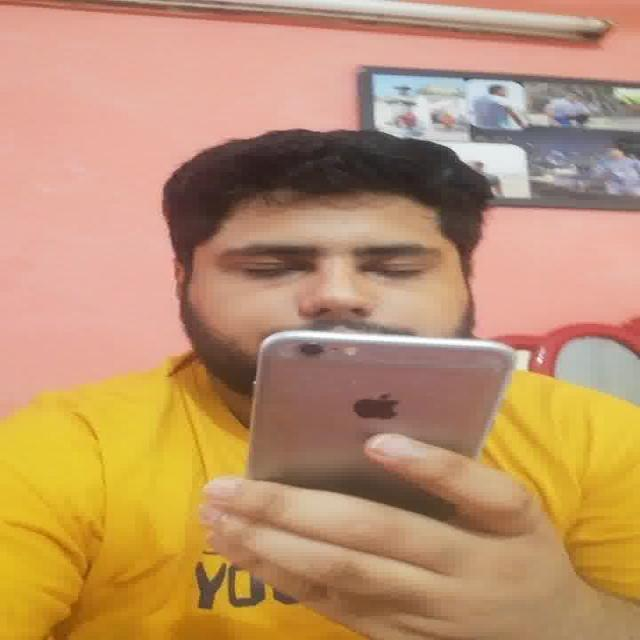Phone: (246, 329, 515, 482)
